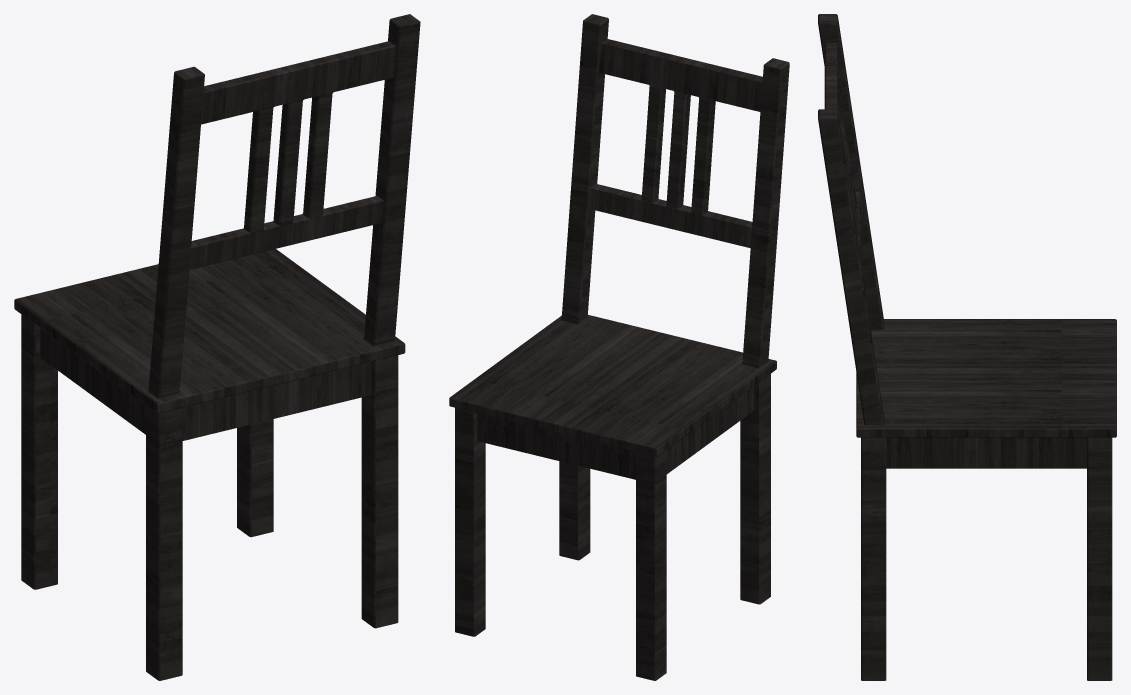
Rendered from chair.fbx.
3 renders of one model, left to right at view 1: azimuth 30°, elevation 25°; view 2: azimuth 150°, elevation 25°; view 3: azimuth 270°, elevation 25°, orthographic. The views are drawn at different scales.
Parts seen in each view (by area): view 1: Cube; view 2: Cube; view 3: Cube.
Part boxes in pixels (left/top/right/bottom): Cube: left=14, top=14, right=420, bottom=680; Cube: left=449, top=14, right=789, bottom=680; Cube: left=818, top=14, right=1116, bottom=680.
Size of the model in its own units: 200 by 476 by 229.
